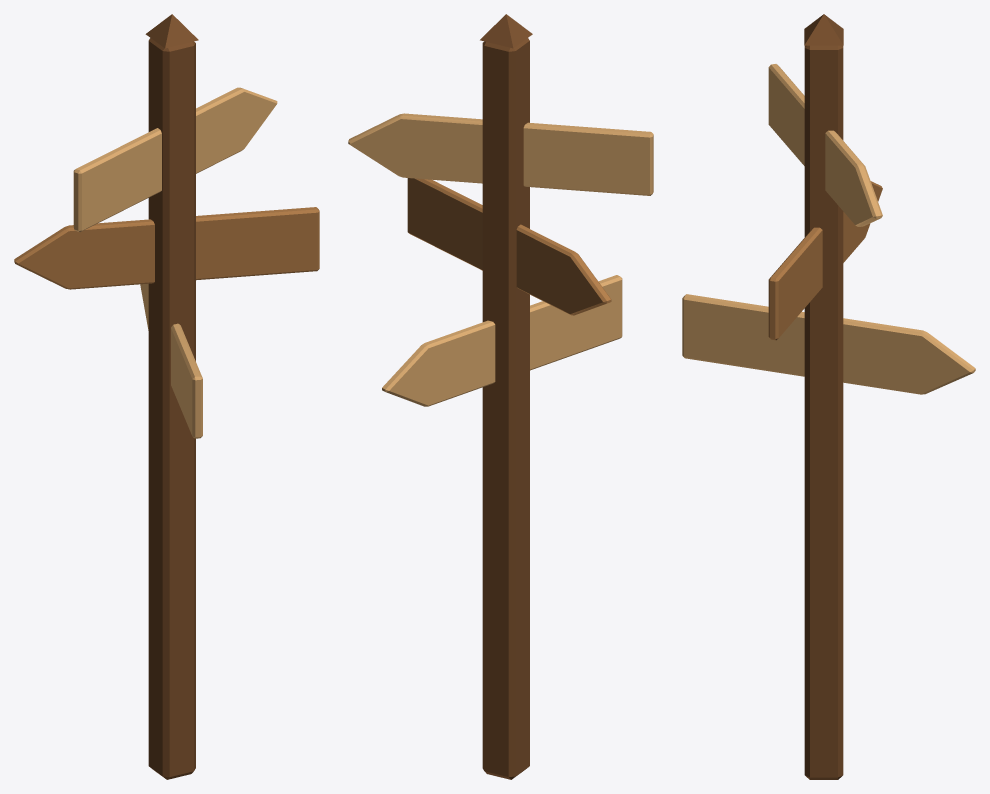
File: SM_Signpost.glb
3 renders of one model, left to right at view 1: azimuth 30°, elevation 25°; view 2: azimuth 150°, elevation 25°; view 3: azimuth 270°, elevation 25°, orthographic.
Parts seen in each view (by area): view 1: SM_Signpost; view 2: SM_Signpost; view 3: SM_Signpost.
Boxes of the visible parts, x1,y1,x2,y2 form: SM_Signpost: (14, 14, 319, 779); SM_Signpost: (348, 14, 653, 779); SM_Signpost: (682, 14, 975, 779).
Bounding box in the file's own units: 0.709 × 1.96 × 0.6856.
1 material, 1 textured.
